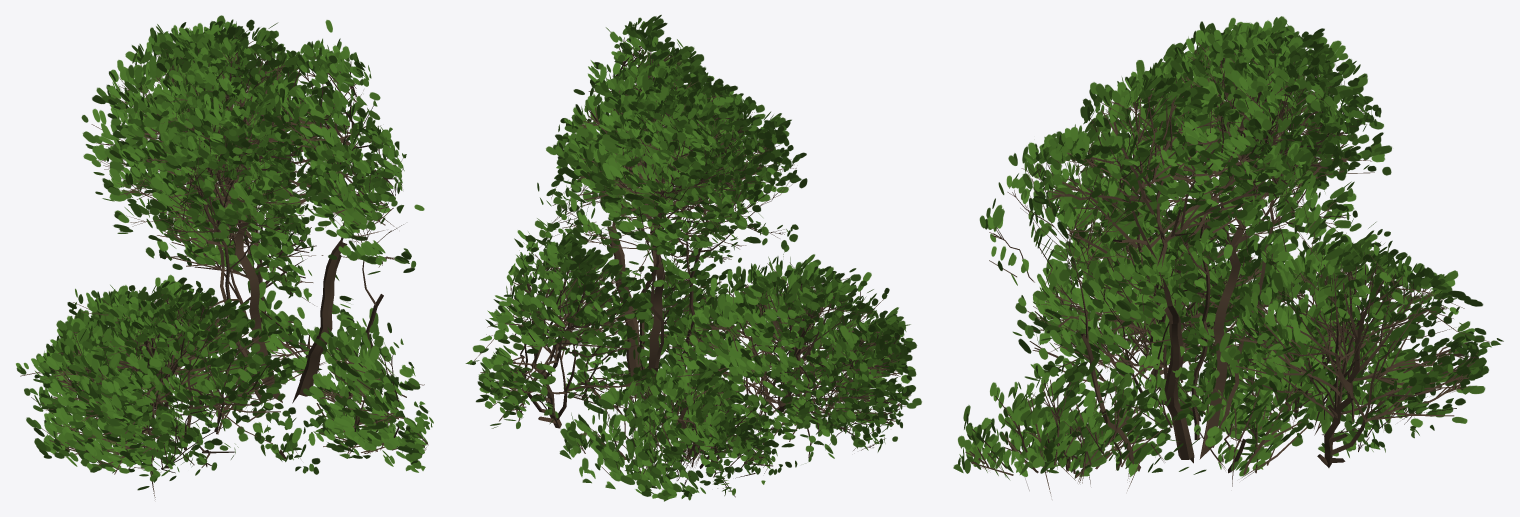
3 renders of one model, left to right at view 1: azimuth 30°, elevation 25°; view 2: azimuth 150°, elevation 25°; view 3: azimuth 270°, elevation 25°, orthographic. The views are drawn at different scales.
Visible parts, largest first — view 1: oak 01.001_trunk_Mat.001_0.183; view 2: oak 01.001_trunk_Mat.001_0.183; view 3: oak 01.001_trunk_Mat.001_0.183.
Boxes of the visible parts, left/top/right/bottom form: oak 01.001_trunk_Mat.001_0.183: left=16, top=15, right=433, bottom=499; oak 01.001_trunk_Mat.001_0.183: left=465, top=14, right=921, bottom=501; oak 01.001_trunk_Mat.001_0.183: left=953, top=16, right=1503, bottom=496.
Size of the model in its own units: 3.9 by 4.38 by 5.08.
2 materials, 1 textured.
